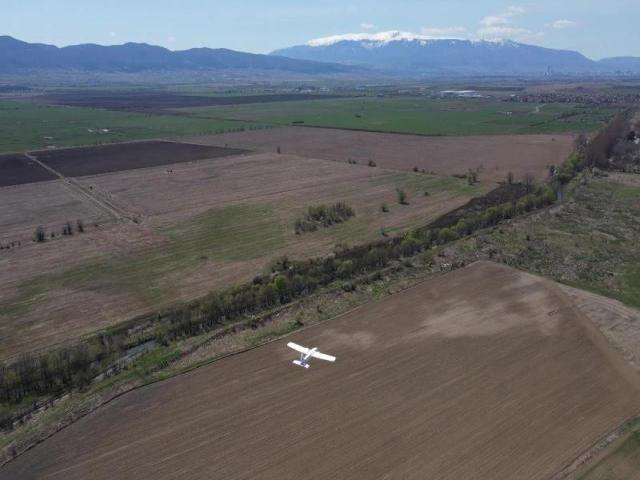hedef: (282, 334, 344, 382)
